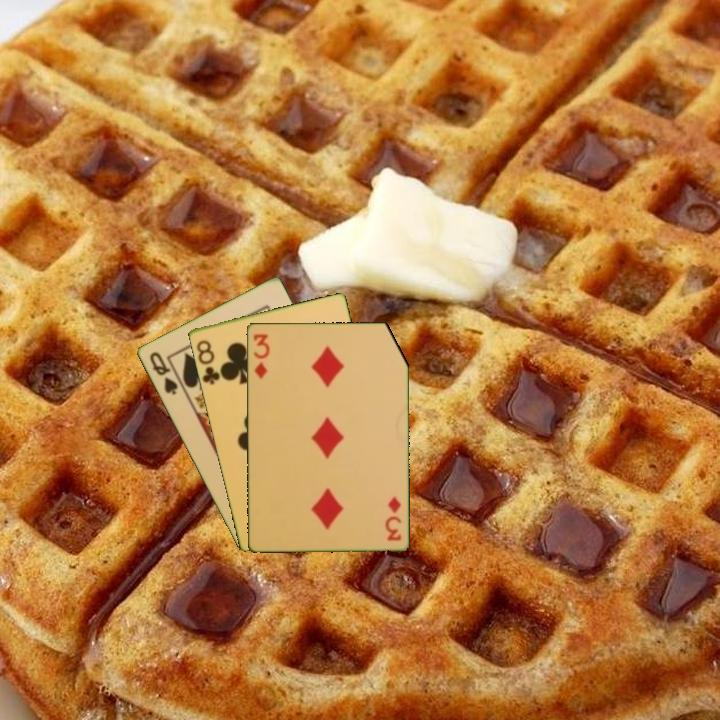3d: (249, 330, 272, 381), (382, 492, 404, 543)
8c: (193, 336, 225, 387)
Qs: (146, 348, 181, 398)
